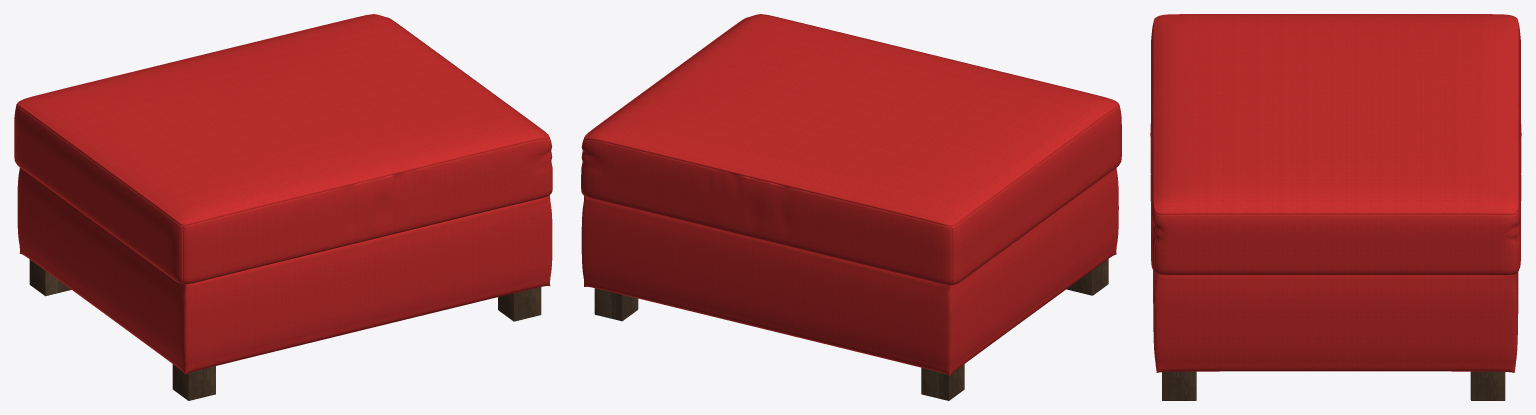
The model's file is Tapicerk_i_krzesla_puf_milton.obj.
3 views of the same model, side by side, from view 1: azimuth 30°, elevation 25°; view 2: azimuth 150°, elevation 25°; view 3: azimuth 270°, elevation 25° (orthographic). The views are drawn at different scales.
Visible parts, largest first — view 1: Box002, Box003, Box004, Box005, Box007; view 2: Box002, Box003, Box007, Box006, Box004; view 3: Box002, Box003, Box006, Box005.
Part boxes in pixels (bbox=[...]): Box002: bbox=[14, 14, 552, 284]; Box003: bbox=[17, 167, 552, 374]; Box004: bbox=[172, 364, 215, 400]; Box005: bbox=[498, 287, 541, 321]; Box007: bbox=[29, 259, 71, 296]; Box002: bbox=[581, 14, 1121, 285]; Box003: bbox=[581, 168, 1118, 375]; Box007: bbox=[921, 364, 964, 400]; Box006: bbox=[594, 288, 638, 321]; Box004: bbox=[1066, 259, 1108, 295]; Box002: bbox=[1150, 14, 1521, 275]; Box003: bbox=[1153, 271, 1518, 372]; Box006: bbox=[1470, 371, 1505, 400]; Box005: bbox=[1162, 371, 1196, 400].
Size of the model in its own units: 95 by 46.39 by 75.18.
